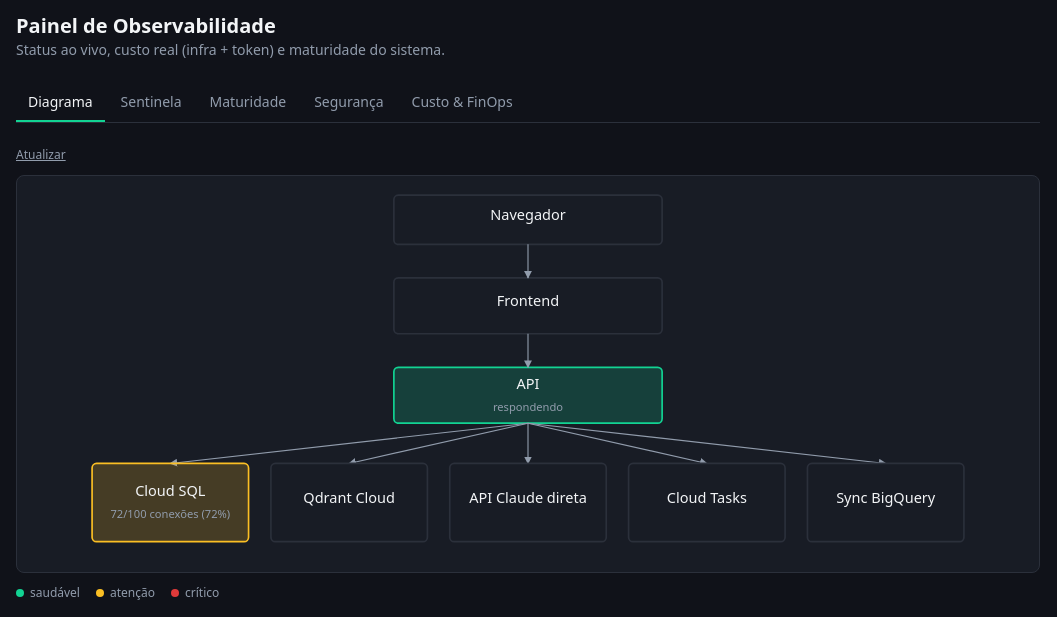
PainelPage › troca para a aba Segurança e mostra a nota por função do NIST CSF
Click the tab "Segurança": {"x": 349, "y": 103} [302, 84, 396, 122]
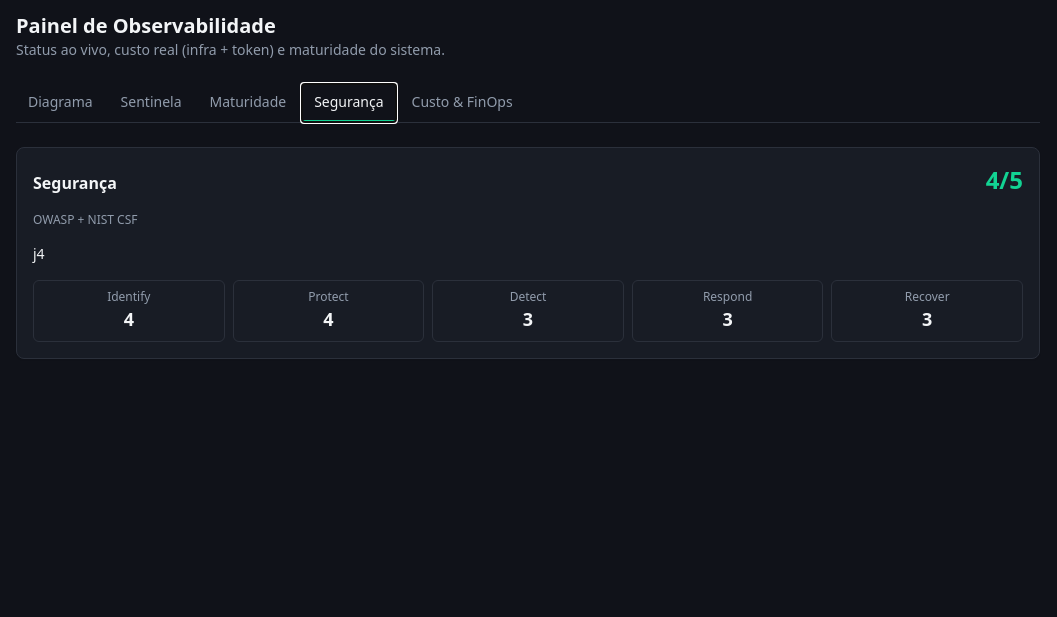
Result: the text "4/5" is shown at [986, 164, 1023, 196]
Result: the text "Detect" is shown at [510, 288, 546, 305]
